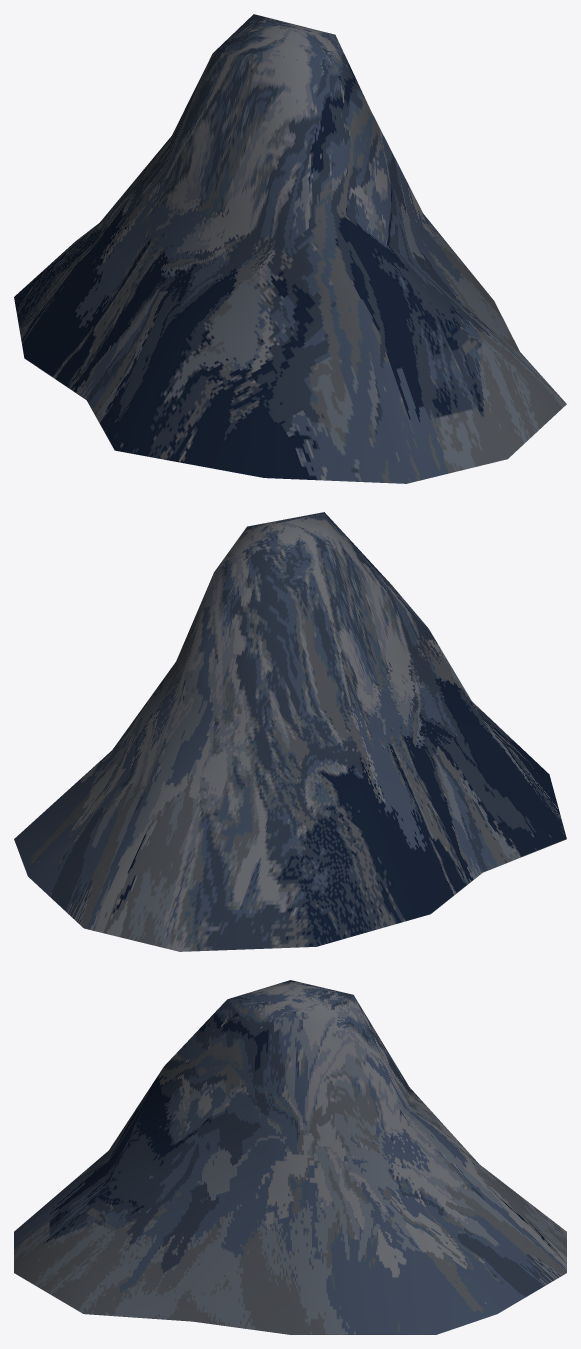
File: BgTX_Mid_Snow_B_tall_cl.FBX
3 views of the same model, one above another, from view 1: azimuth 30°, elevation 25°; view 2: azimuth 150°, elevation 25°; view 3: azimuth 270°, elevation 25° (orthographic). The views are drawn at different scales.
Parts seen in each view (by area): view 1: BgMD_Mid_Mount_D_tall; view 2: BgMD_Mid_Mount_D_tall; view 3: BgMD_Mid_Mount_D_tall.
Part boxes in pixels (box(x1,y1,x2,y2)): BgMD_Mid_Mount_D_tall: box(14, 14, 566, 483); BgMD_Mid_Mount_D_tall: box(14, 512, 566, 951); BgMD_Mid_Mount_D_tall: box(14, 980, 566, 1334).
Size of the model in its own units: 3262 by 2275 by 4272.
